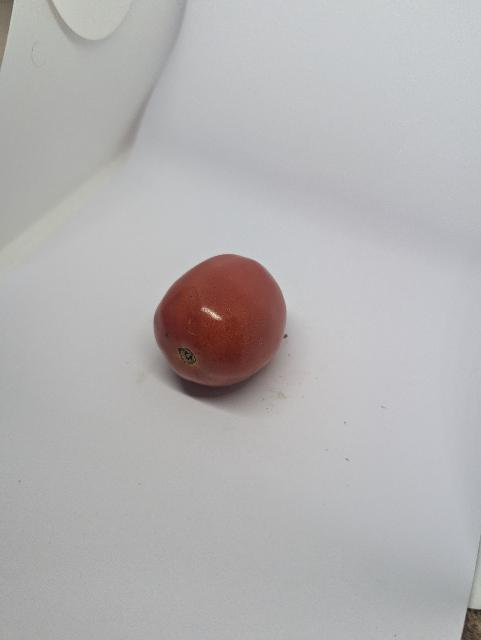red: (142, 245, 300, 405)
